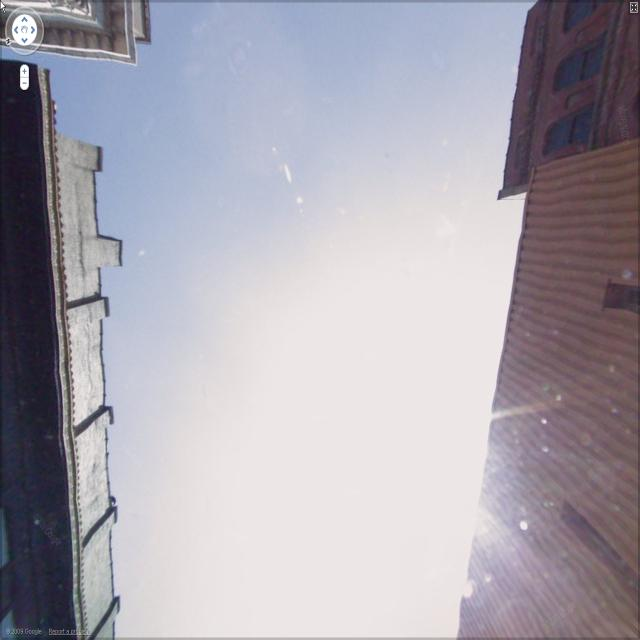b_1: (450, 47, 640, 624), (7, 58, 153, 640), (8, 0, 166, 70)
